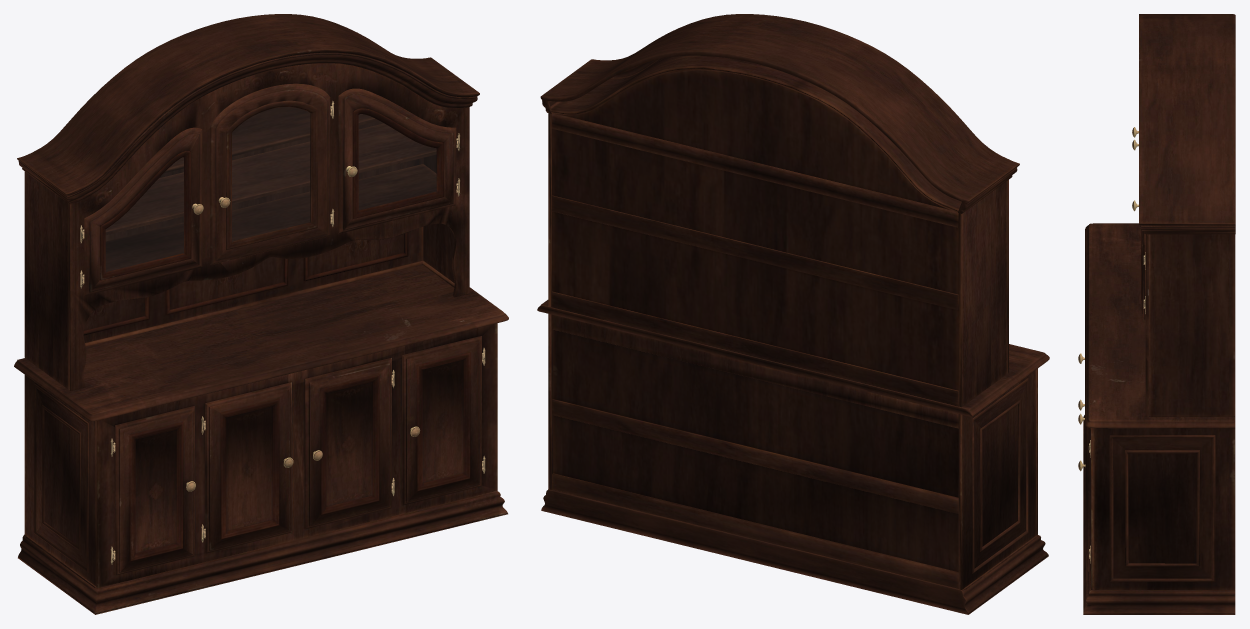
The model's file is vintage_cabinet.glb.
3 views of the same model, side by side, from view 1: azimuth 30°, elevation 25°; view 2: azimuth 150°, elevation 25°; view 3: azimuth 270°, elevation 25° (orthographic). The views are drawn at different scales.
Parts seen in each view (by area): view 1: vintage_cabinet_01_body, vintage_cabinet; view 2: vintage_cabinet_01_body; view 3: vintage_cabinet_01_body, vintage_cabinet.
Boxes of the visible parts, x1,y1,x2,y2 form: vintage_cabinet_01_body: [14, 14, 508, 614]; vintage_cabinet: [82, 83, 483, 575]; vintage_cabinet_01_body: [537, 14, 1049, 614]; vintage_cabinet_01_body: [1083, 14, 1235, 614]; vintage_cabinet: [1078, 127, 1145, 572].
Bounding box in the file's own units: 1.76 × 1.95 × 0.5844.
3 materials, 2 textured.
